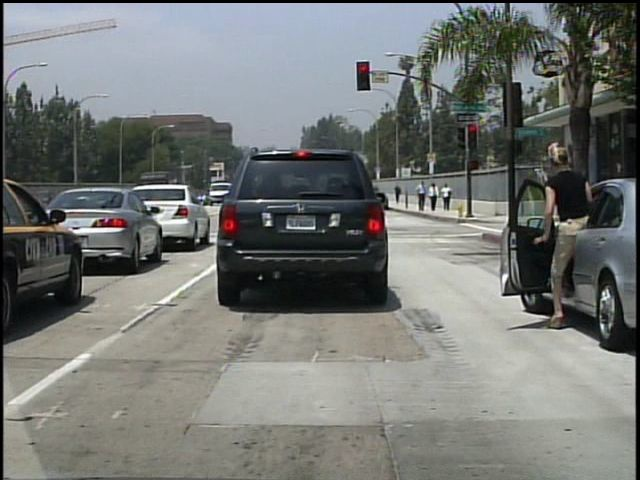person: (535, 141, 609, 336), (417, 180, 428, 212), (441, 183, 453, 212), (429, 183, 440, 212), (394, 184, 403, 205)
